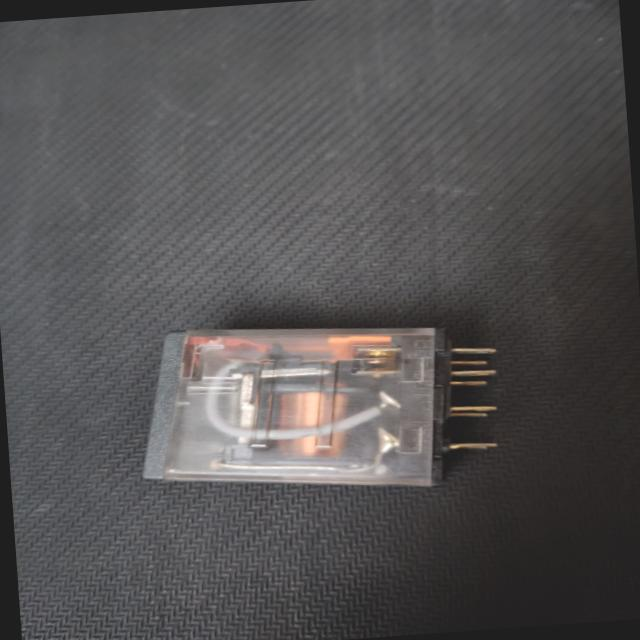relay: (102, 294, 521, 517)
